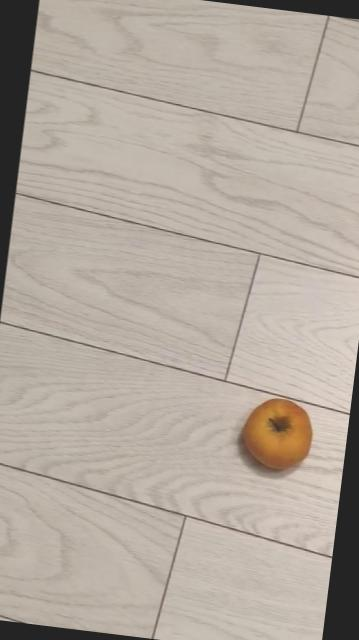apple_red: (236, 392, 316, 472)
